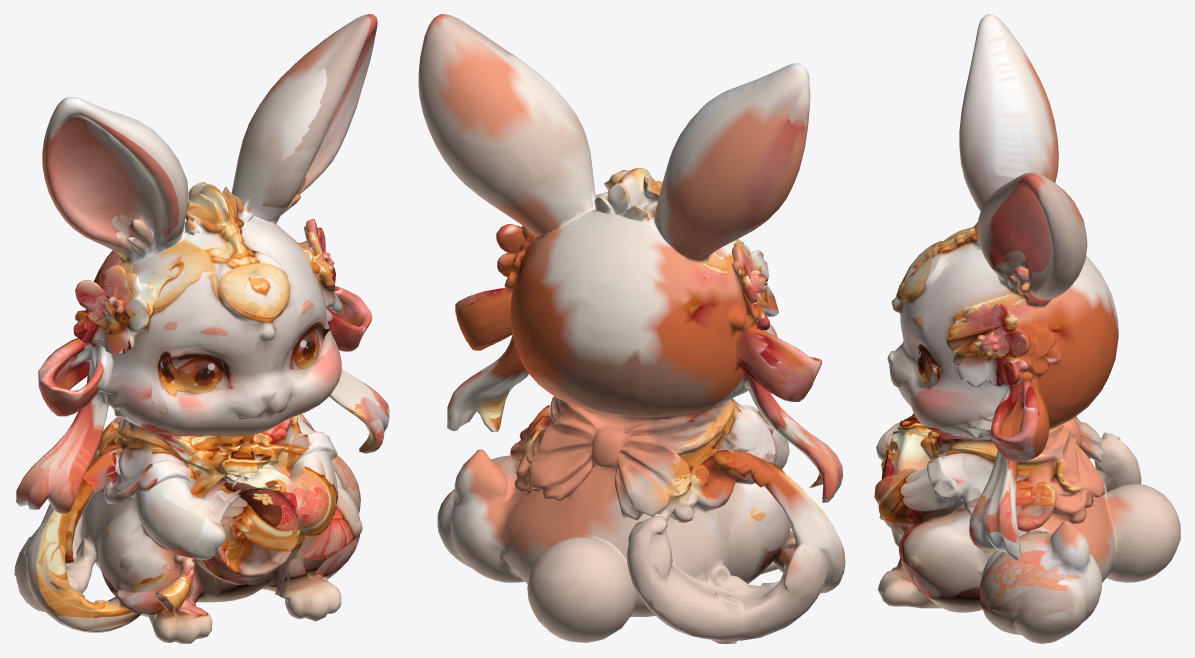
The model's file is original.glb.
3 views of the same model, side by side, from view 1: azimuth 30°, elevation 25°; view 2: azimuth 150°, elevation 25°; view 3: azimuth 270°, elevation 25° (orthographic). The views are drawn at different scales.
Visible parts, largest first — view 1: Body; view 2: Body; view 3: Body.
Boxes of the visible parts, bbox=[...] form: Body: bbox=[14, 14, 389, 643]; Body: bbox=[418, 14, 845, 643]; Body: bbox=[874, 14, 1180, 643].
Bounding box in the file's own units: 0.7465 × 1 × 0.5552.
Materials: 2 (2 with a texture image).
